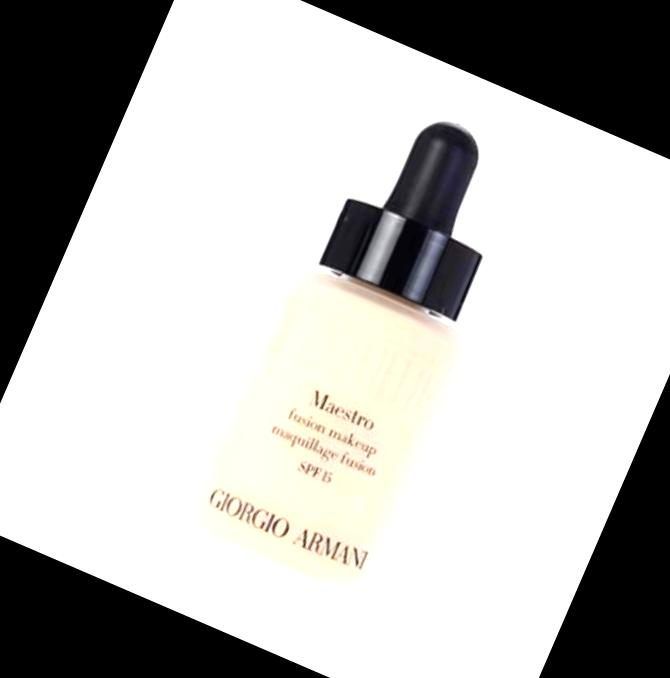cosmetic: (149, 76, 563, 634)
